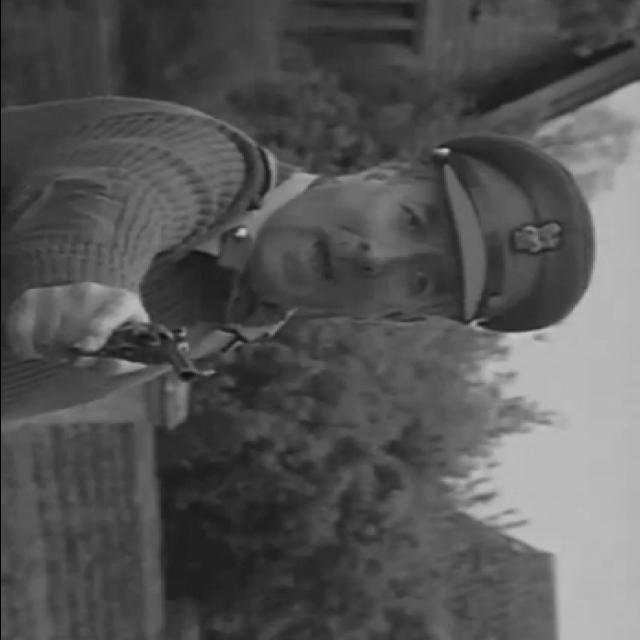weapons: (18, 299, 219, 396)
